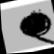not correct: (17, 5, 54, 53)
